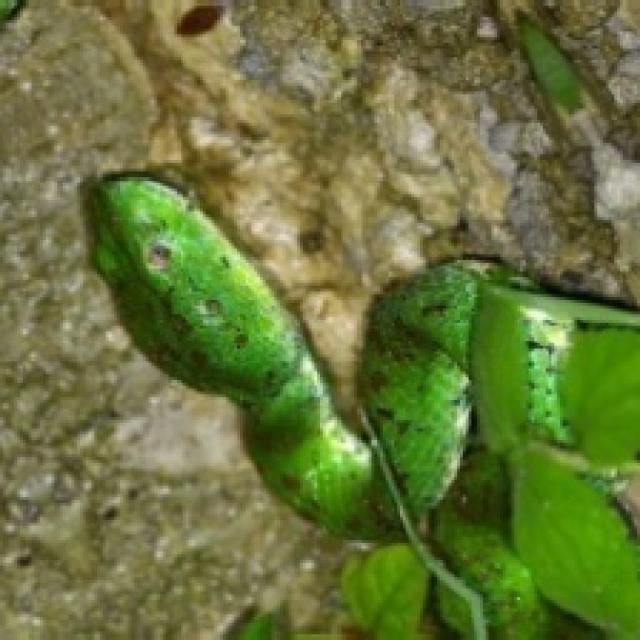philippine pitviper: (89, 174, 391, 534), (360, 263, 637, 637)
